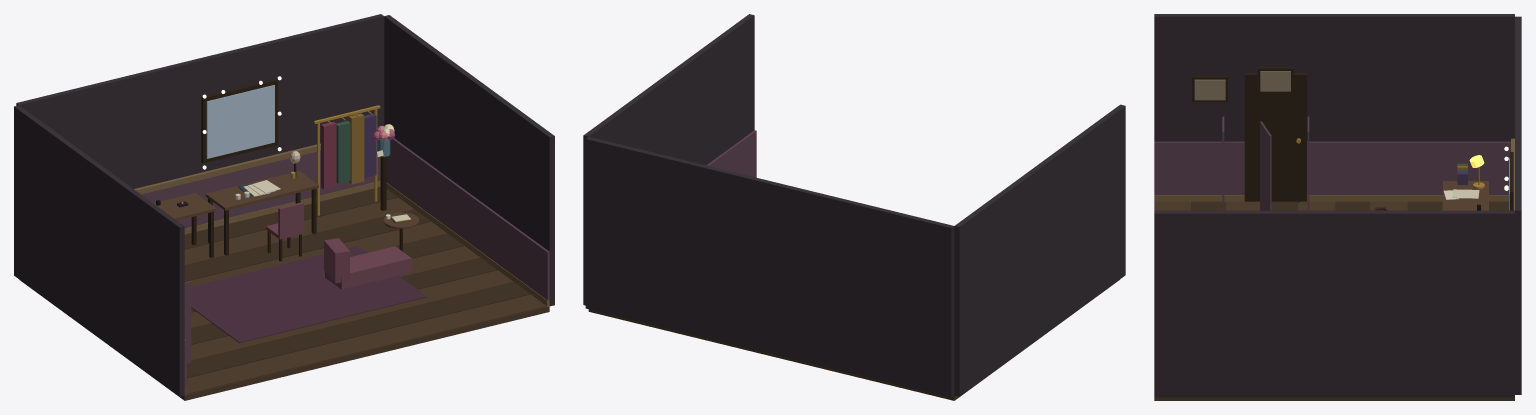
Rendered from dressing.glb.
3 views of the same model, side by side, from view 1: azimuth 30°, elevation 25°; view 2: azimuth 150°, elevation 25°; view 3: azimuth 270°, elevation 25° (orthographic). The views are drawn at different scales.
Visible parts, largest first — view 1: WallLeft, WallBack, WallRight, DrRug, BandRight, Plank0, Plank1, BandBack, MirrorGlass, Plank2, Plank7, Plank8 (+20 smaller); view 2: WallBack, WallLeft, WallRight, Floor, BandRight; view 3: WallRight, WallLeft, BandLeft, DrDoor, WallBack, SkirtLeft, Floor, DrScreen1, WriteDeskTop, PhotoPrint0, PhotoPrint1, PhotoFrame1 (+7 smaller).
Boxes of the visible parts, x1=… form: WallLeft: x1=14, y1=105, x2=184, y2=396; WallBack: x1=16, y1=14, x2=384, y2=188; WallRight: x1=384, y1=15, x2=554, y2=306; DrRug: x1=191, y1=246, x2=426, y2=342; BandRight: x1=386, y1=138, x2=549, y2=300; Plank0: x1=187, y1=294, x2=546, y2=394; Plank1: x1=187, y1=282, x2=530, y2=378; BandBack: x1=141, y1=150, x2=380, y2=228; MirrorGlass: x1=206, y1=85, x2=274, y2=158; Plank2: x1=191, y1=270, x2=513, y2=360; Plank7: x1=184, y1=209, x2=430, y2=281; Plank8: x1=184, y1=197, x2=414, y2=265; WallBack: x1=585, y1=137, x2=954, y2=397; WallLeft: x1=954, y1=104, x2=1125, y2=396; WallRight: x1=583, y1=14, x2=754, y2=305; Floor: x1=588, y1=279, x2=1119, y2=400; BandRight: x1=706, y1=130, x2=756, y2=177; WallRight: x1=1154, y1=210, x2=1514, y2=397; WallLeft: x1=1154, y1=14, x2=1514, y2=141; BandLeft: x1=1154, y1=141, x2=1510, y2=194; DrDoor: x1=1244, y1=73, x2=1306, y2=202; WallBack: x1=1515, y1=16, x2=1521, y2=394; SkirtLeft: x1=1154, y1=195, x2=1508, y2=202; Floor: x1=1154, y1=202, x2=1514, y2=400; DrScreen1: x1=1260, y1=121, x2=1271, y2=210; WriteDeskTop: x1=1443, y1=181, x2=1488, y2=210; PhotoPrint0: x1=1194, y1=79, x2=1225, y2=100; PhotoPrint1: x1=1260, y1=71, x2=1290, y2=91; PhotoFrame1: x1=1257, y1=67, x2=1293, y2=93.
Bounding box in the file's own units: 7.2 × 3.2 × 5.6.
